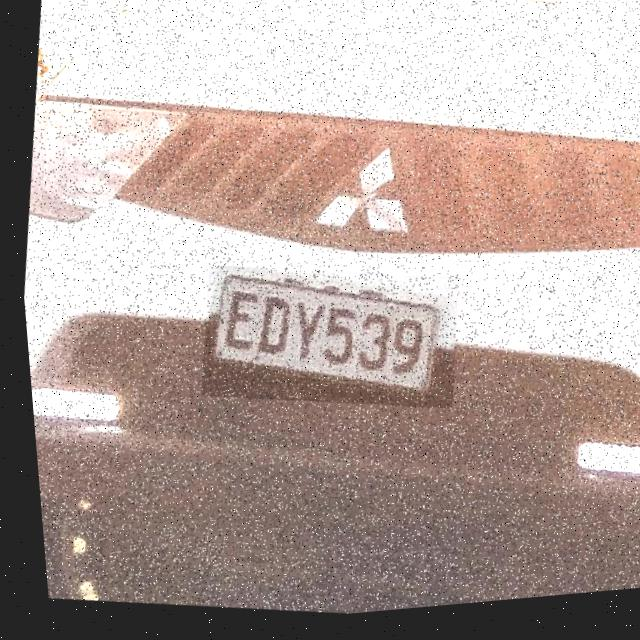LicensePlate: (187, 251, 463, 434)
